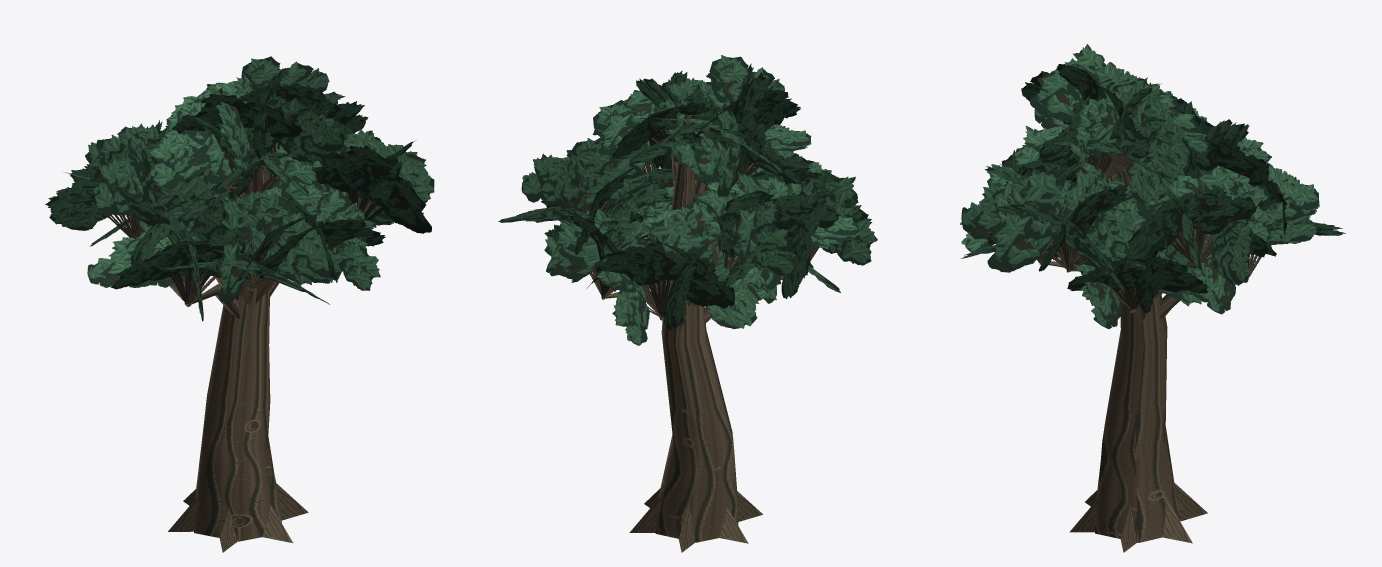
File: old-growth-giant-near.glb
3 views of the same model, side by side, from view 1: azimuth 30°, elevation 25°; view 2: azimuth 150°, elevation 25°; view 3: azimuth 270°, elevation 25° (orthographic). The views are drawn at different scales.
Visible parts, largest first — view 1: Old-growth giant near v3 runtime; view 2: Old-growth giant near v3 runtime; view 3: Old-growth giant near v3 runtime.
Boxes of the visible parts, <box> form: Old-growth giant near v3 runtime: <box>45,56,434,552</box>; Old-growth giant near v3 runtime: <box>498,55,877,552</box>; Old-growth giant near v3 runtime: <box>960,44,1345,552</box>.
Size of the model in its own units: 8.57 by 10.56 by 8.52.
1 material, 1 textured.
